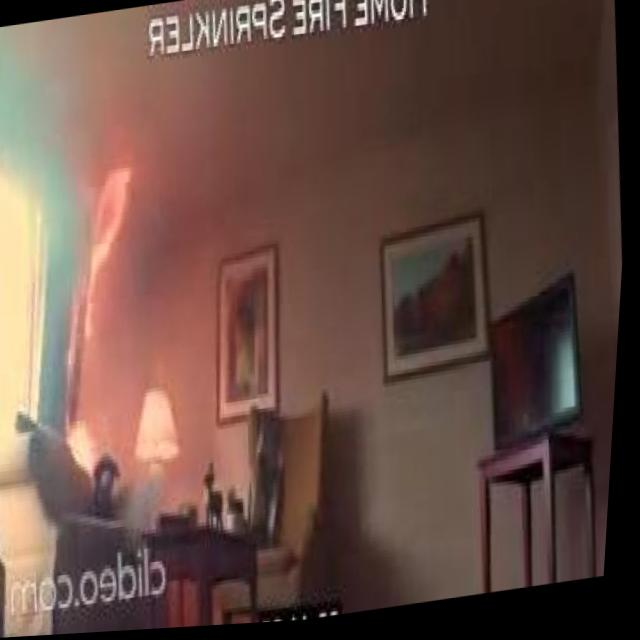fire: (67, 157, 148, 318), (66, 401, 109, 482)
